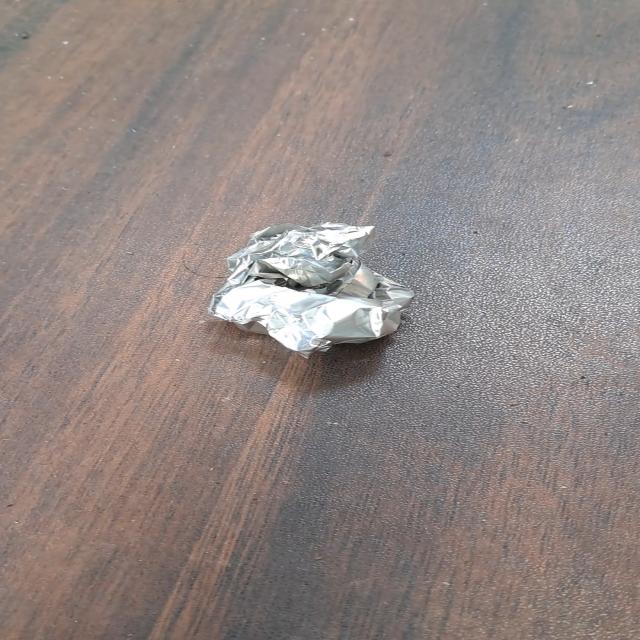Anorganik: (208, 217, 432, 360)
